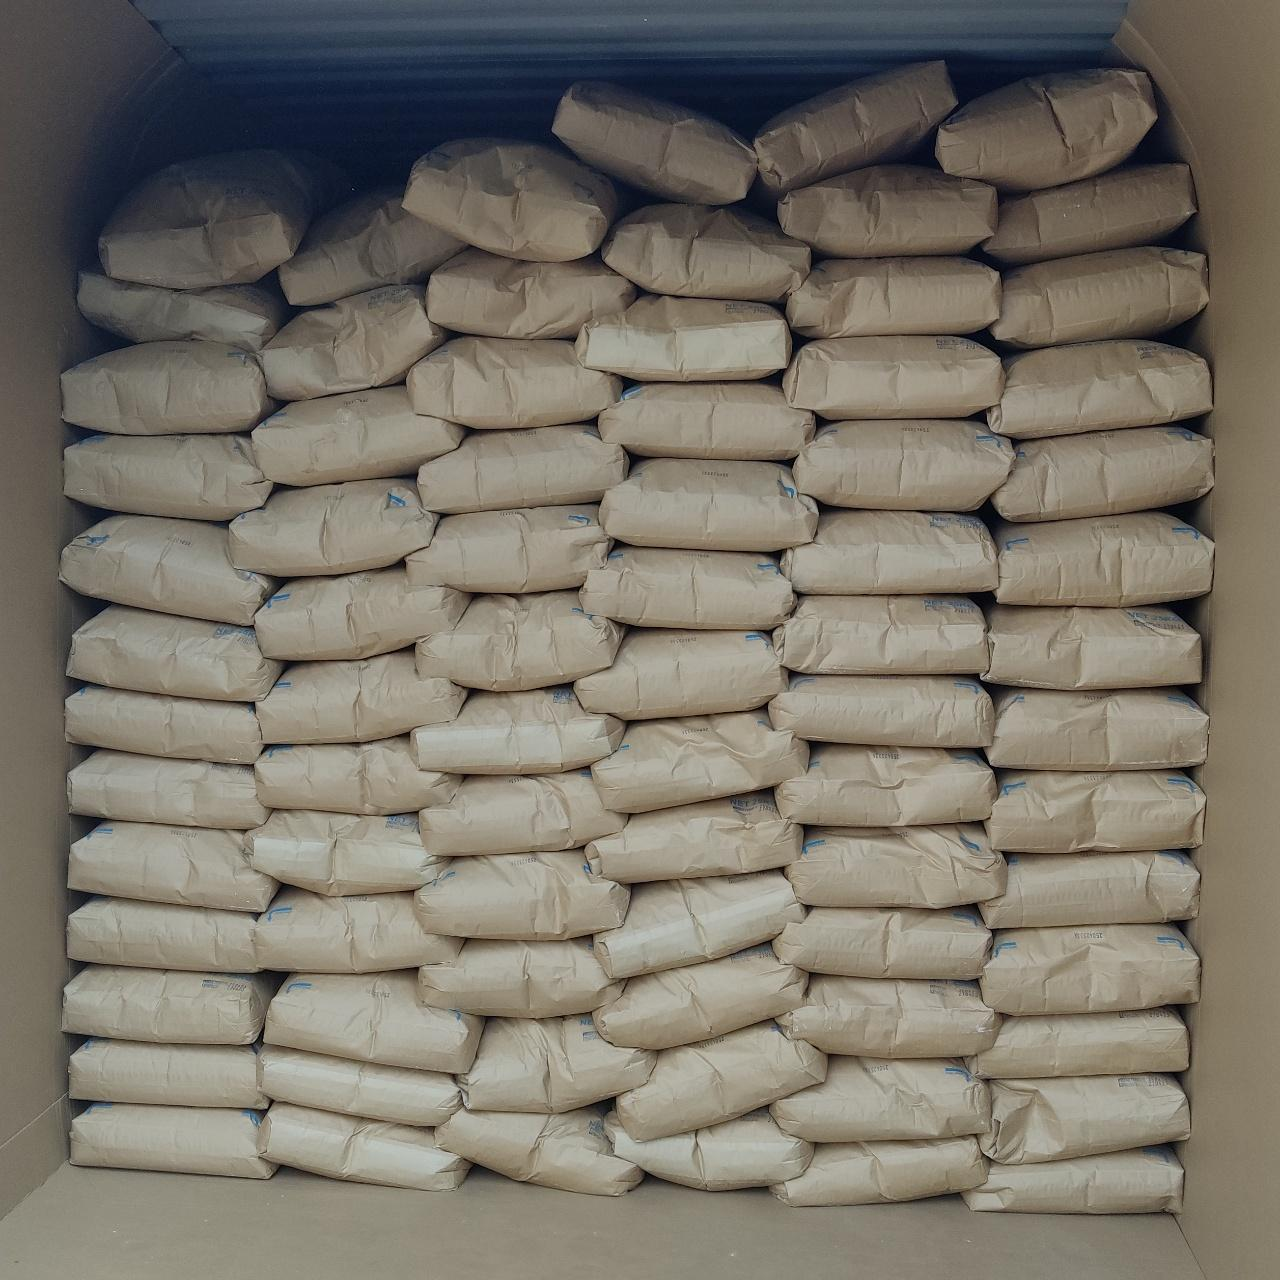sack: (102, 147, 350, 286), (754, 62, 956, 195), (406, 138, 629, 258), (938, 68, 1156, 190), (614, 1022, 826, 1141), (554, 84, 754, 204), (62, 515, 275, 622), (594, 870, 804, 974), (594, 944, 806, 1046), (990, 248, 1206, 348), (266, 971, 482, 1070), (592, 710, 806, 810), (256, 286, 445, 399), (988, 342, 1210, 438), (980, 164, 1194, 263), (250, 386, 462, 484), (280, 188, 462, 302), (992, 425, 1212, 518), (602, 204, 808, 302), (992, 512, 1212, 604), (68, 606, 280, 700), (230, 478, 436, 574), (794, 420, 1012, 510), (408, 336, 622, 428), (256, 566, 468, 658), (416, 592, 622, 686), (980, 926, 1198, 1014), (778, 166, 996, 254), (258, 651, 467, 742), (602, 459, 813, 550), (586, 792, 799, 881), (578, 629, 787, 719), (62, 343, 275, 430), (411, 686, 622, 772), (772, 1056, 988, 1141), (428, 250, 636, 336), (70, 822, 275, 910), (436, 1107, 640, 1194), (416, 850, 628, 934), (420, 424, 628, 510), (576, 297, 790, 380), (462, 1016, 652, 1110), (258, 1104, 468, 1189), (784, 336, 1000, 418), (983, 604, 1198, 686), (583, 546, 792, 629), (982, 1074, 1189, 1158), (782, 510, 994, 592), (66, 434, 270, 518), (988, 770, 1204, 850), (986, 688, 1206, 765), (246, 810, 448, 894), (256, 888, 459, 972), (778, 976, 998, 1054), (408, 506, 610, 590), (778, 744, 994, 822), (80, 272, 292, 350), (787, 826, 1005, 903), (422, 772, 624, 855), (600, 382, 813, 459), (788, 258, 998, 336), (980, 852, 1198, 926), (258, 1044, 459, 1124), (64, 966, 278, 1040), (612, 1110, 812, 1189), (776, 595, 983, 670), (256, 736, 458, 812), (70, 750, 268, 828), (420, 938, 620, 1014), (770, 676, 990, 745), (68, 685, 263, 762), (776, 908, 990, 978), (971, 1008, 1189, 1076), (72, 1104, 275, 1176), (68, 898, 260, 972), (962, 1148, 1182, 1212), (772, 1138, 986, 1204), (70, 1040, 266, 1108)
